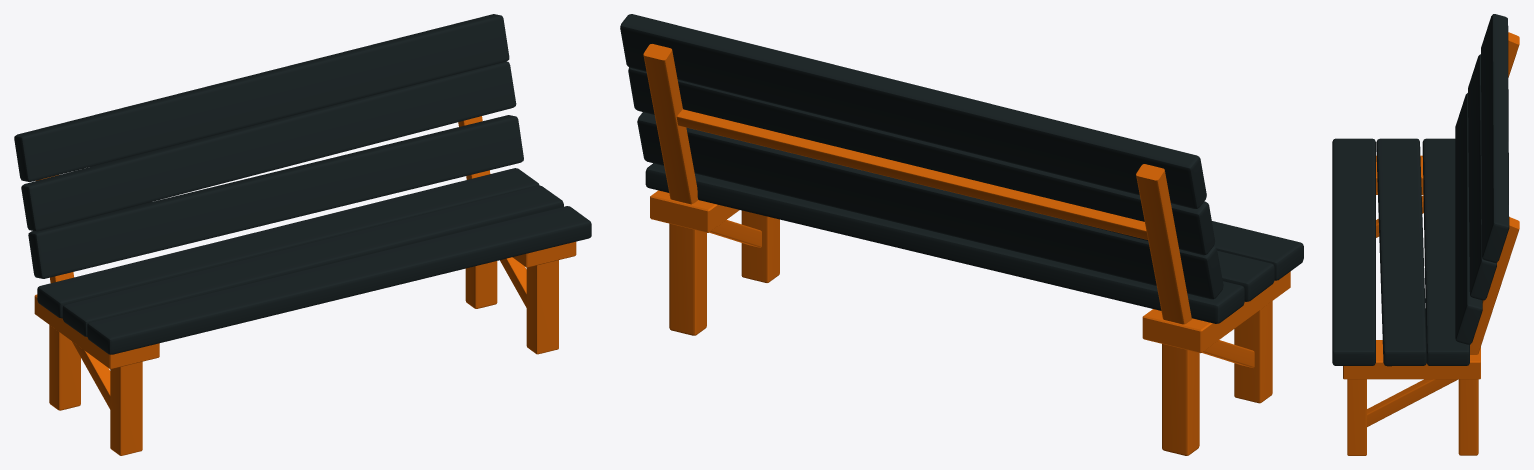
The model's file is Bench2.fbx.
3 views of the same model, side by side, from view 1: azimuth 30°, elevation 25°; view 2: azimuth 150°, elevation 25°; view 3: azimuth 270°, elevation 25° (orthographic). The views are drawn at different scales.
Parts seen in each view (by area): view 1: pCube281; view 2: pCube281; view 3: pCube281.
Boxes of the visible parts, x1,y1,x2,y2 form: pCube281: [14, 14, 591, 455]; pCube281: [620, 14, 1303, 455]; pCube281: [1332, 14, 1519, 455].
Size of the model in its own units: 138 by 73.1 by 50.79.
